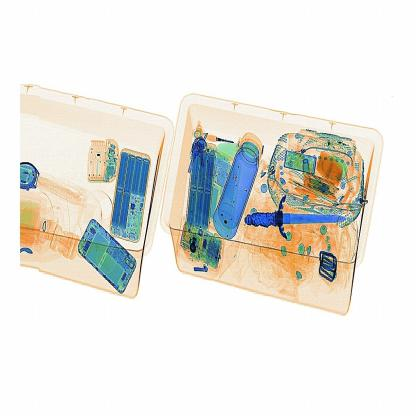wrench: (242, 193, 349, 245)
